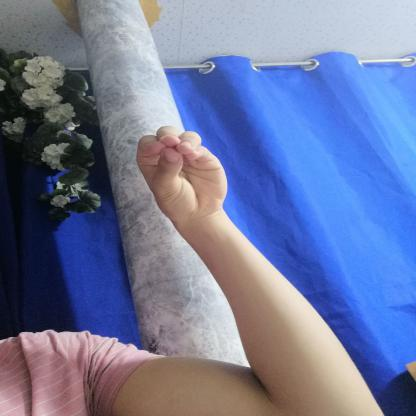HA: (120, 115, 244, 232)
